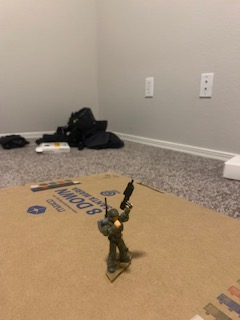soldier: (93, 177, 135, 273)
